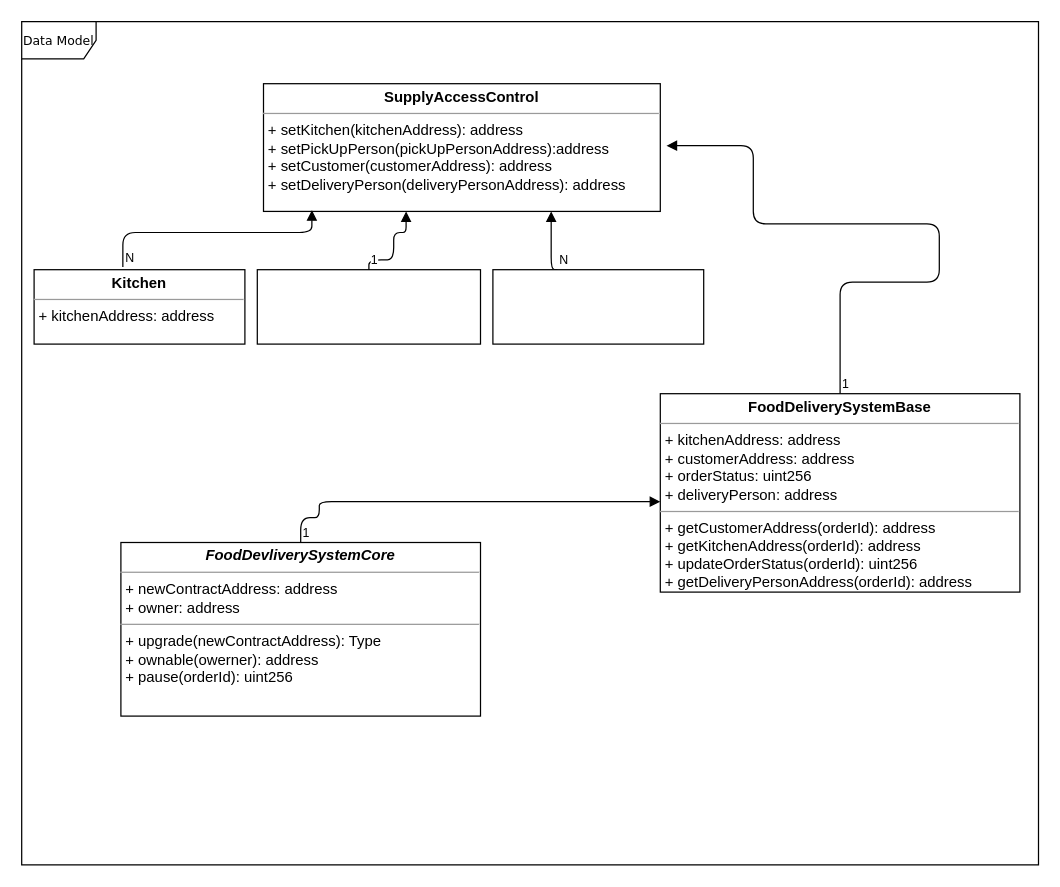
Some shapes in this 1060 by 887 pixel diagram are drawn without their labels. The centre of each missing label's shape, as x and y in pixels:
"DeliveryPerson + deliveryPerson: address" belongs at [598,306].
"Distibutor + kitchenAddress: address" belongs at [368,306].
